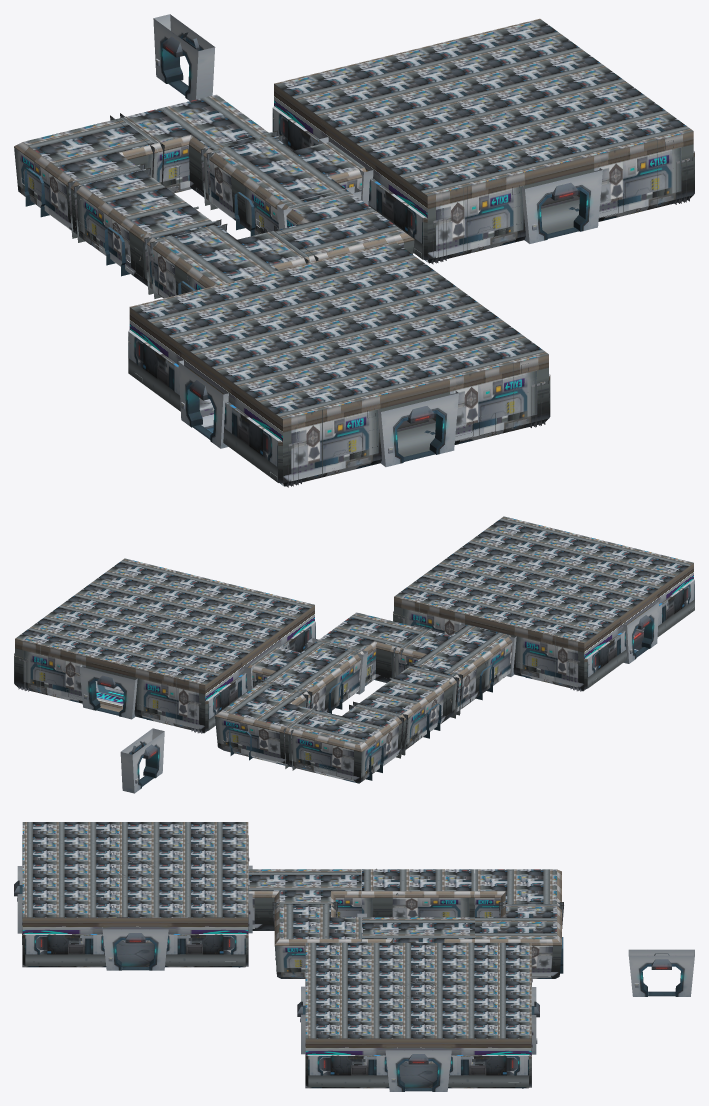
Rendered from Combined_Mesh_root_scene__13_e7023e4f__ZombiesII_laboratory_04_d_1b2a1172_c1f257.obj.
The picture shows the model from 3 angles, top to bottom: view 1: azimuth 30°, elevation 25°; view 2: azimuth 150°, elevation 25°; view 3: azimuth 270°, elevation 25°; orthographic projection. The views are drawn at different scales.
Size of the model in its own units: 93.74 by 10.34 by 121.
Materials: 592 (592 with a texture image).
